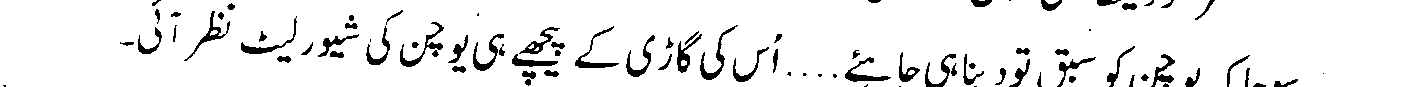bay_shosha: (1067, 56, 1080, 83)
